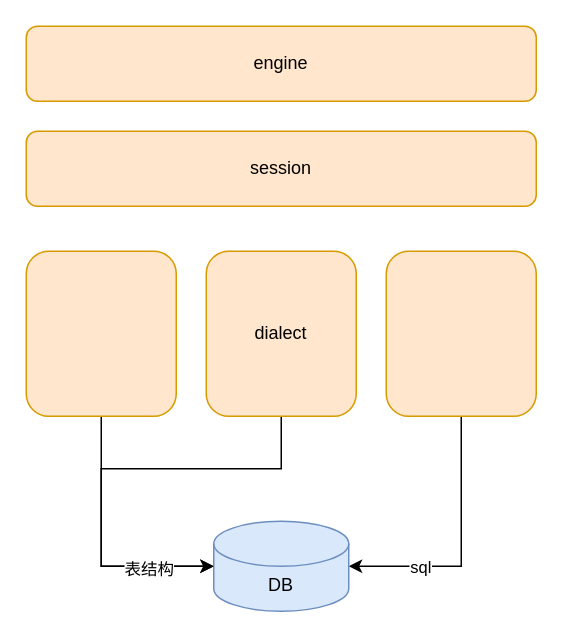
The diagram is 563 pixels wide and 638 high, and some of its shapes have lost their labels. Here are the shapes that lost their labels. From the top down, the centre of each, then its label:
pixel 100 333: schema
pixel 460 333: clause
